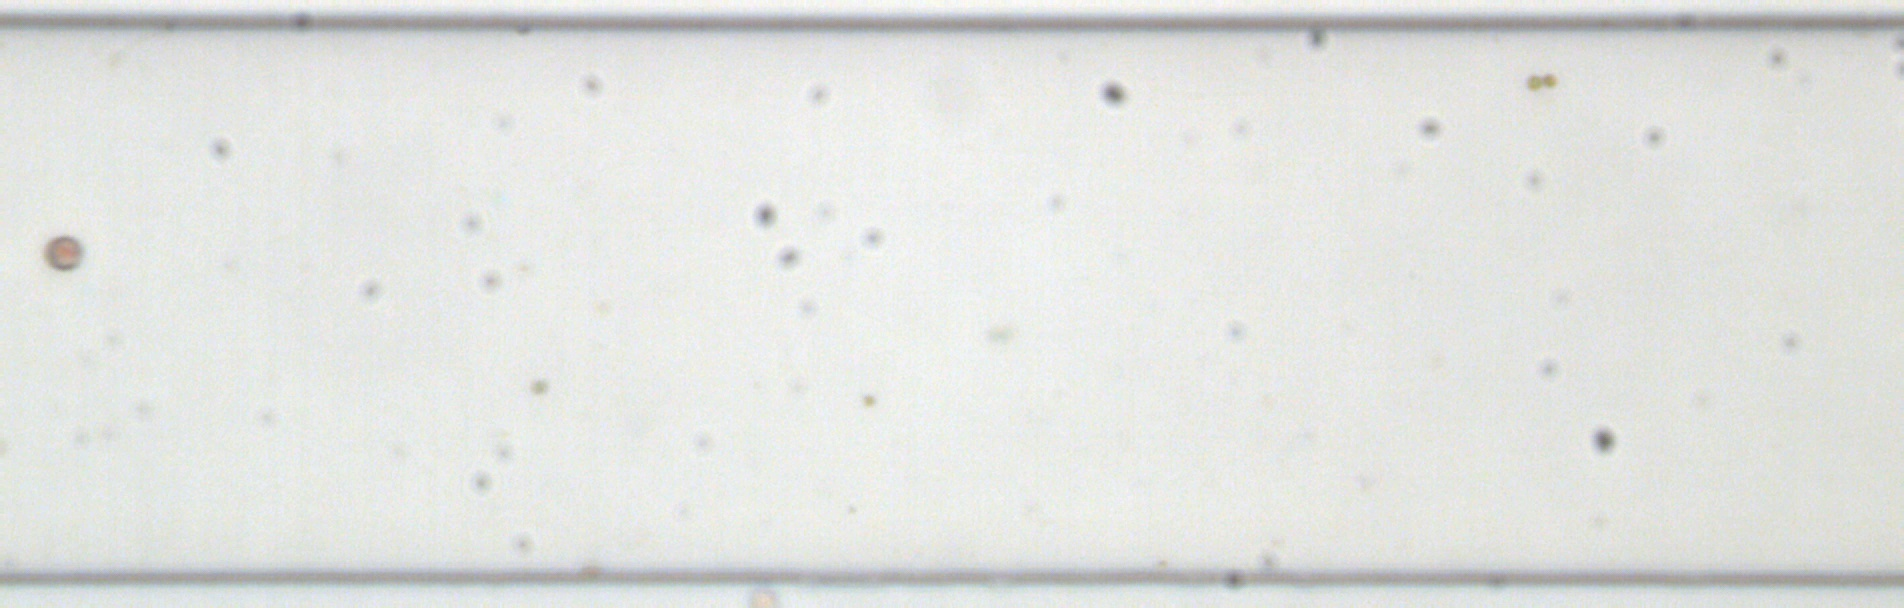Chlorella: (529, 376, 549, 396), (862, 391, 880, 409), (1524, 72, 1541, 91), (1543, 72, 1557, 90)
Porphyridium: (42, 232, 84, 273)
